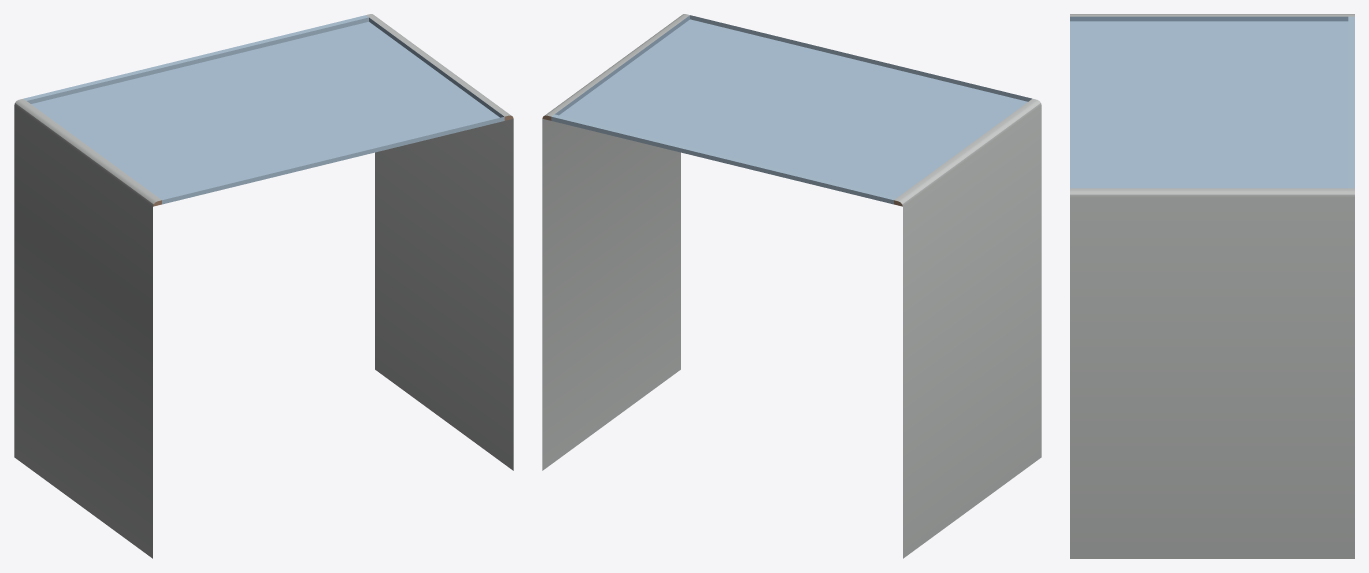
Rendered from finishway.fbx.
3 views of the same model, side by side, from view 1: azimuth 30°, elevation 25°; view 2: azimuth 150°, elevation 25°; view 3: azimuth 270°, elevation 25° (orthographic). The views are drawn at different scales.
Visible parts, largest first — view 1: FinishWay; view 2: FinishWay; view 3: FinishWay.
Part boxes in pixels (bbox=[...]): FinishWay: bbox=[14, 14, 513, 558]; FinishWay: bbox=[542, 14, 1041, 558]; FinishWay: bbox=[1070, 14, 1354, 558].
Bounding box in the file's own units: 600 × 567 × 400.
